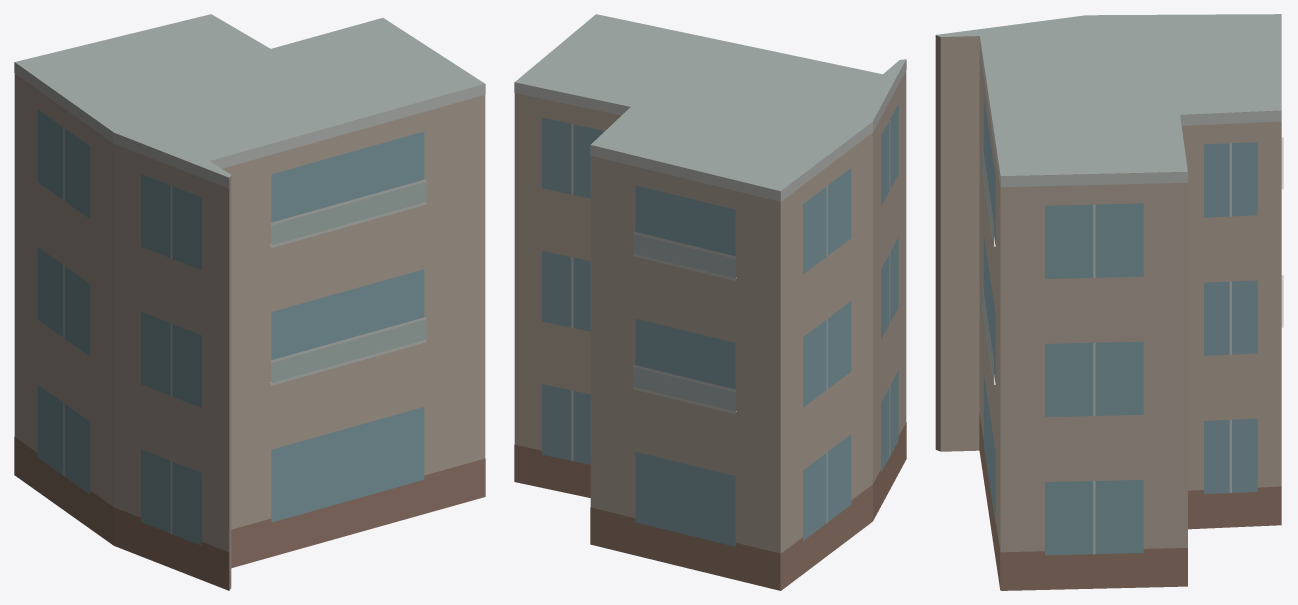
File: survey-upis-32897317.glb
3 views of the same model, side by side, from view 1: azimuth 30°, elevation 25°; view 2: azimuth 150°, elevation 25°; view 3: azimuth 270°, elevation 25° (orthographic). The views are drawn at different scales.
Parts seen in each view (by area): view 1: survey-upis-32897317.tmp; view 2: survey-upis-32897317.tmp; view 3: survey-upis-32897317.tmp.
Boxes of the visible parts, x1,y1,x2,y2 form: survey-upis-32897317.tmp: [14, 14, 485, 590]; survey-upis-32897317.tmp: [514, 14, 906, 590]; survey-upis-32897317.tmp: [935, 14, 1283, 590].
Size of the model in its own units: 7.68 by 9.15 by 6.96.
